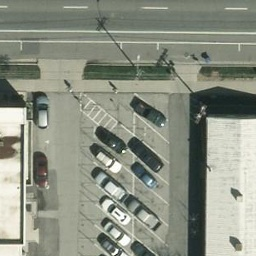car: (128, 136, 164, 171), (127, 197, 160, 232), (93, 169, 127, 200), (133, 98, 167, 127), (93, 126, 127, 152), (100, 217, 131, 244), (131, 160, 159, 189), (102, 197, 129, 225), (93, 149, 122, 173), (99, 237, 130, 256), (33, 158, 49, 190), (35, 96, 50, 128)
